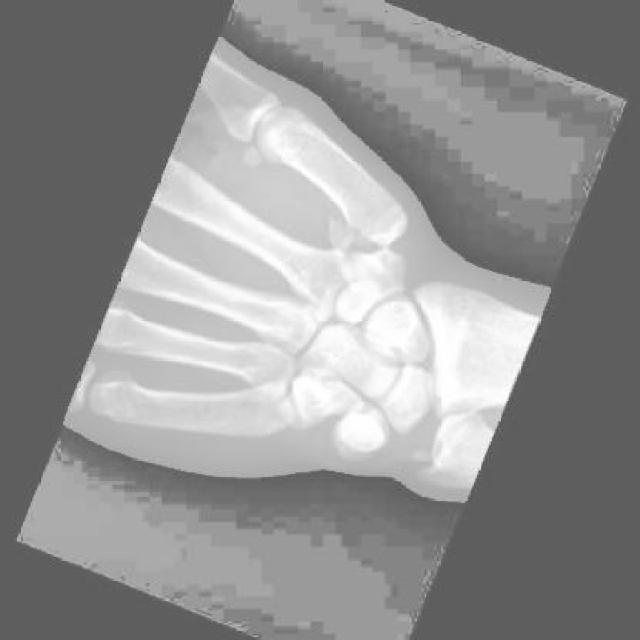Fracture: (303, 194, 389, 277)
